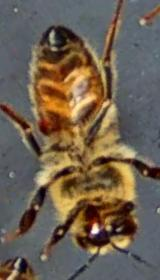varroa_mite: (31, 113, 62, 132)
